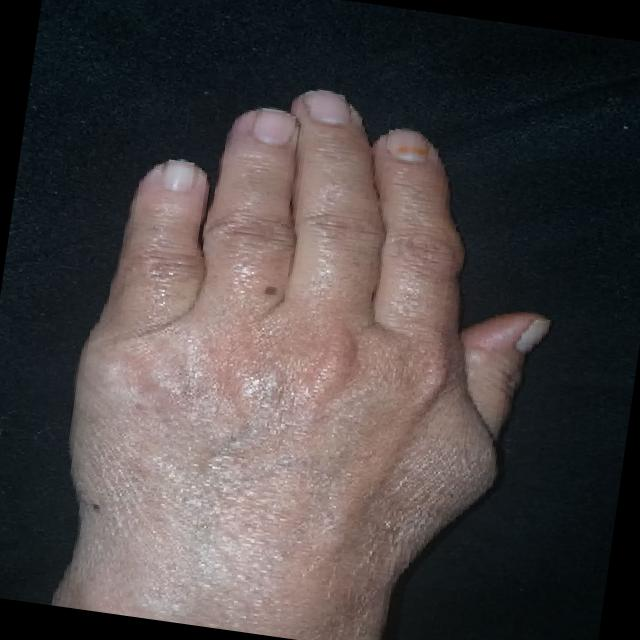Nail: (254, 108, 296, 146), (308, 91, 349, 125), (388, 129, 427, 163), (515, 319, 551, 353), (161, 160, 197, 192)
